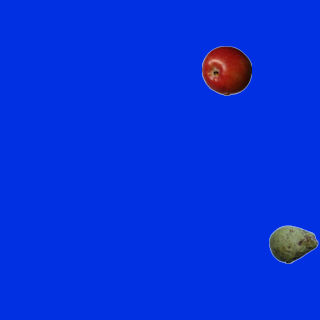Apple Braeburn: (201, 45, 251, 95)
Pear Stone: (268, 219, 318, 269)
